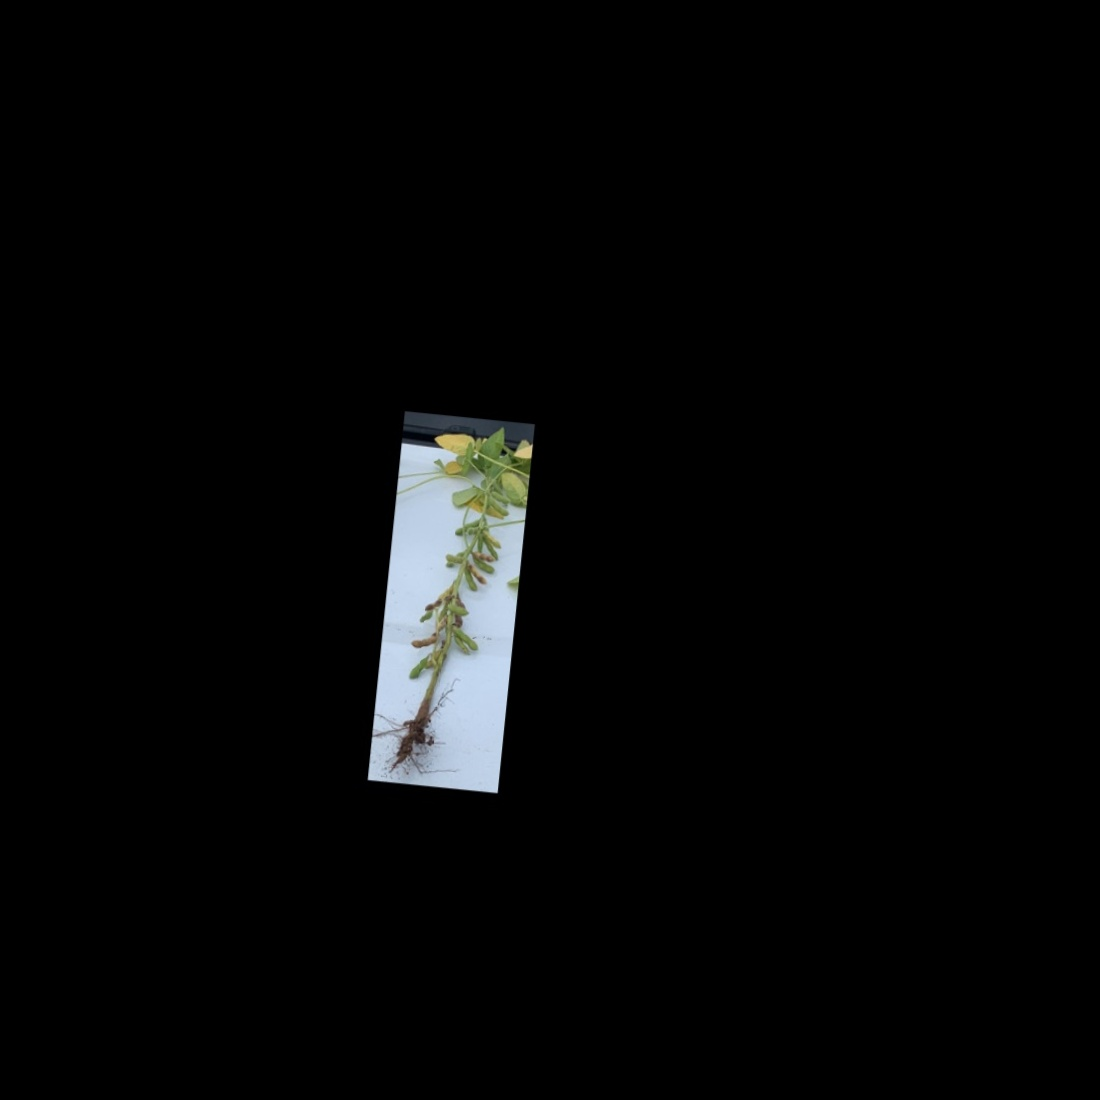pod: (450, 625, 483, 652), (407, 650, 431, 684), (461, 560, 490, 586), (459, 564, 482, 595), (407, 631, 437, 651), (485, 496, 513, 517), (469, 556, 497, 575), (480, 528, 503, 549), (440, 550, 466, 566), (463, 517, 479, 530)
soy: (394, 417, 534, 783)
